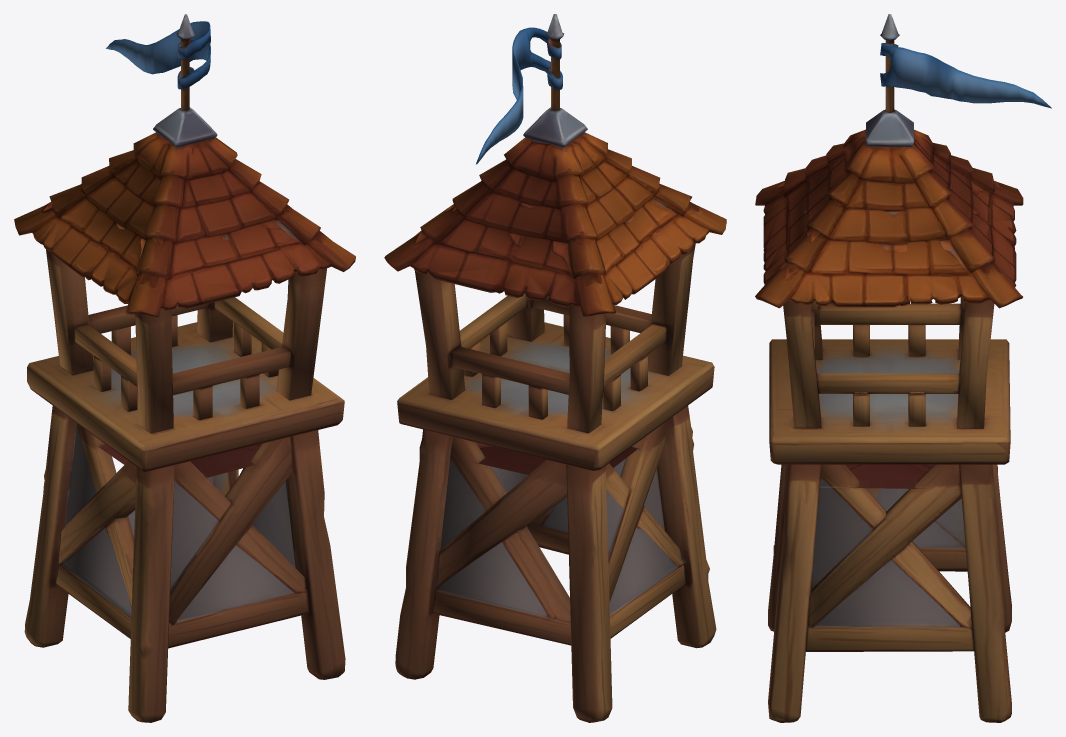
File: addon_watch_tripo.glb
The picture shows the model from 3 angles, left to right: view 1: azimuth 30°, elevation 25°; view 2: azimuth 150°, elevation 25°; view 3: azimuth 270°, elevation 25°; orthographic projection. The views are drawn at different scales.
Visible parts, largest first — view 1: tripo_node_35e45d1c-1327-4c82-a441-29b79bc31680; view 2: tripo_node_35e45d1c-1327-4c82-a441-29b79bc31680; view 3: tripo_node_35e45d1c-1327-4c82-a441-29b79bc31680.
Boxes of the visible parts, x1,y1,x2,y2 form: tripo_node_35e45d1c-1327-4c82-a441-29b79bc31680: (14, 14, 355, 722); tripo_node_35e45d1c-1327-4c82-a441-29b79bc31680: (384, 14, 726, 722); tripo_node_35e45d1c-1327-4c82-a441-29b79bc31680: (755, 14, 1051, 722).
Bounding box in the file's own units: 0.3691 × 0.998 × 0.4082.
Materials: 1 (1 with a texture image).
